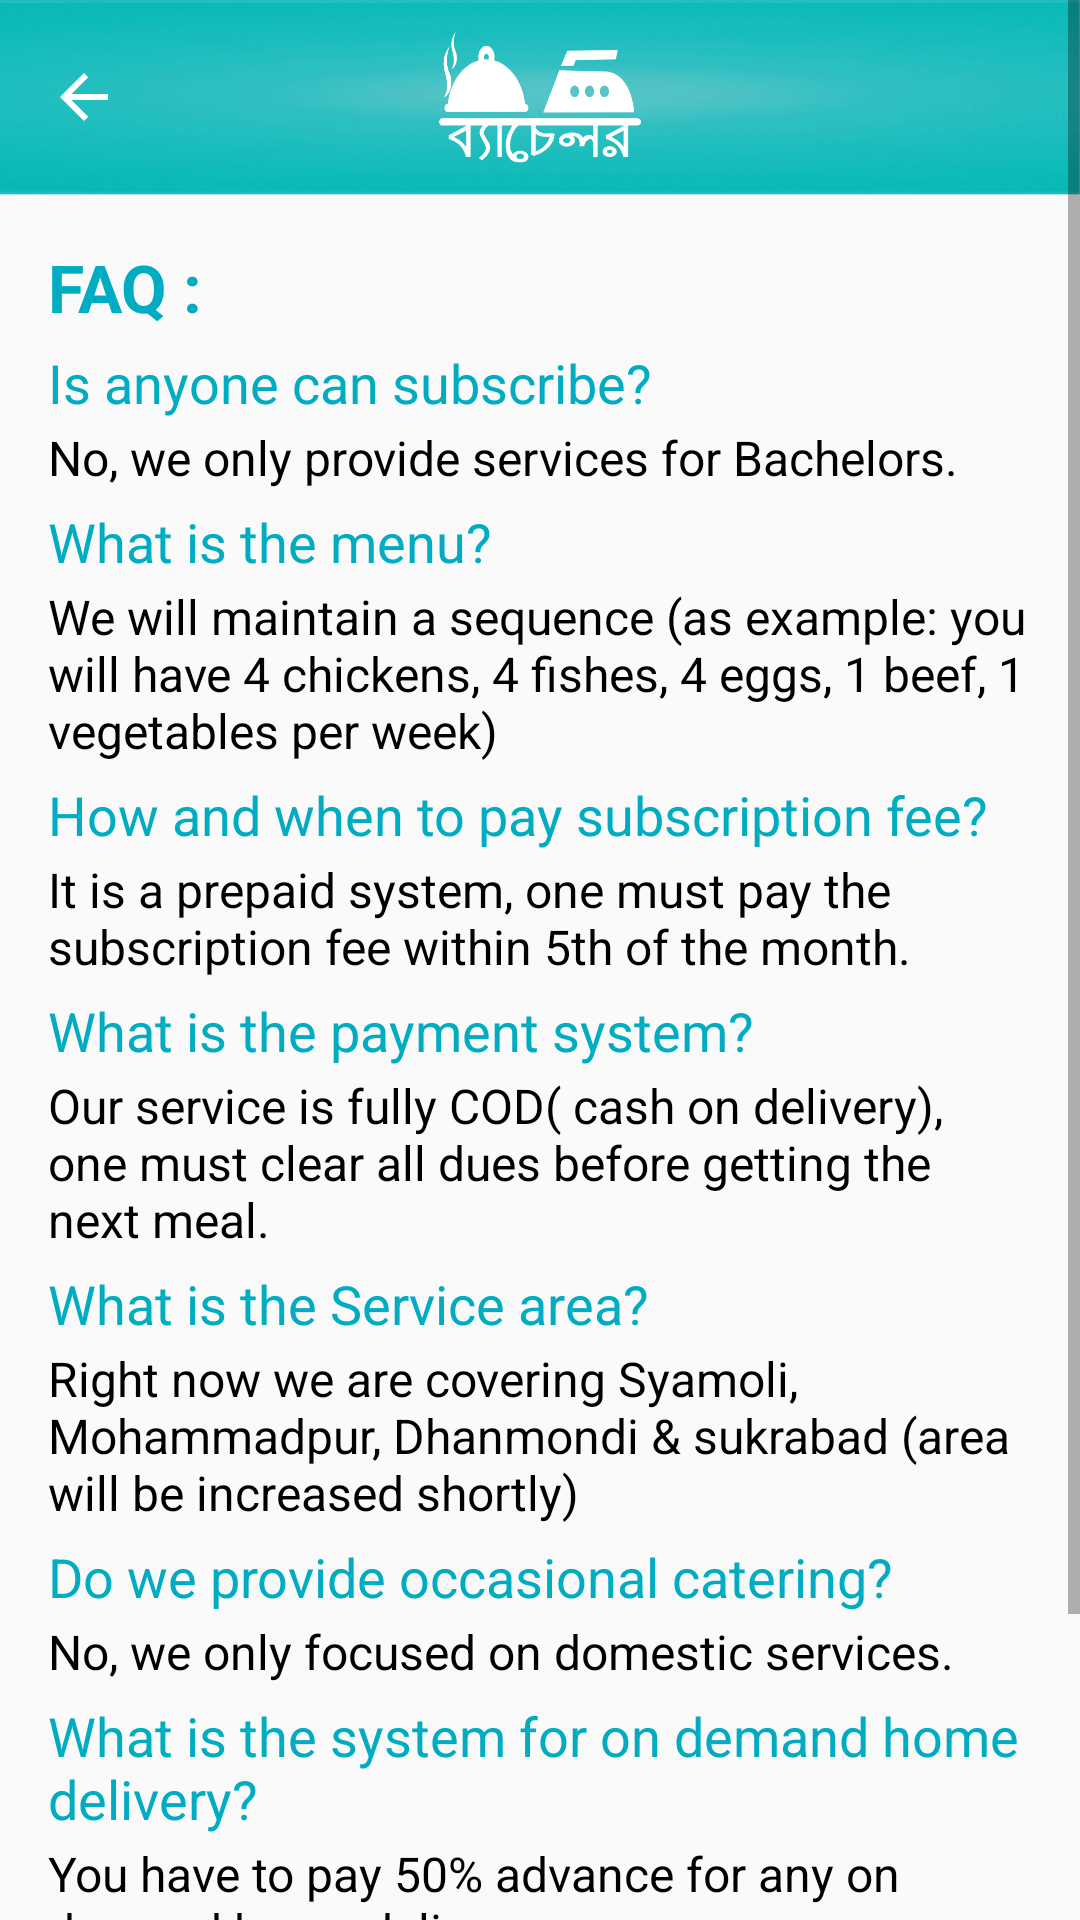

Screen size 1080px×1920px. Icon name, then its center in pixels as point (x, y):
arrow back: point (84, 97)
